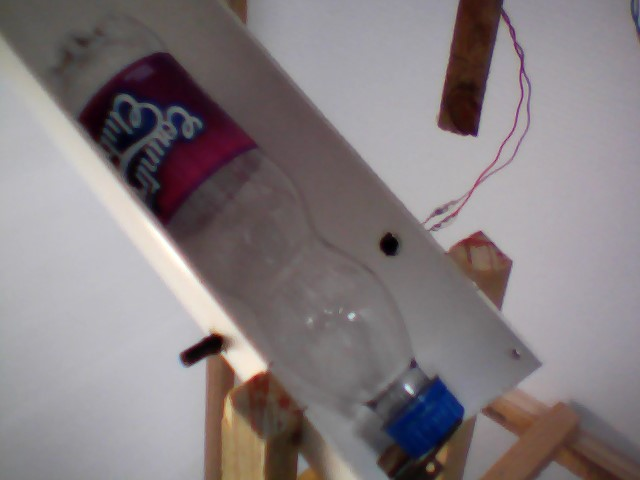plastico: (45, 8, 468, 460)
